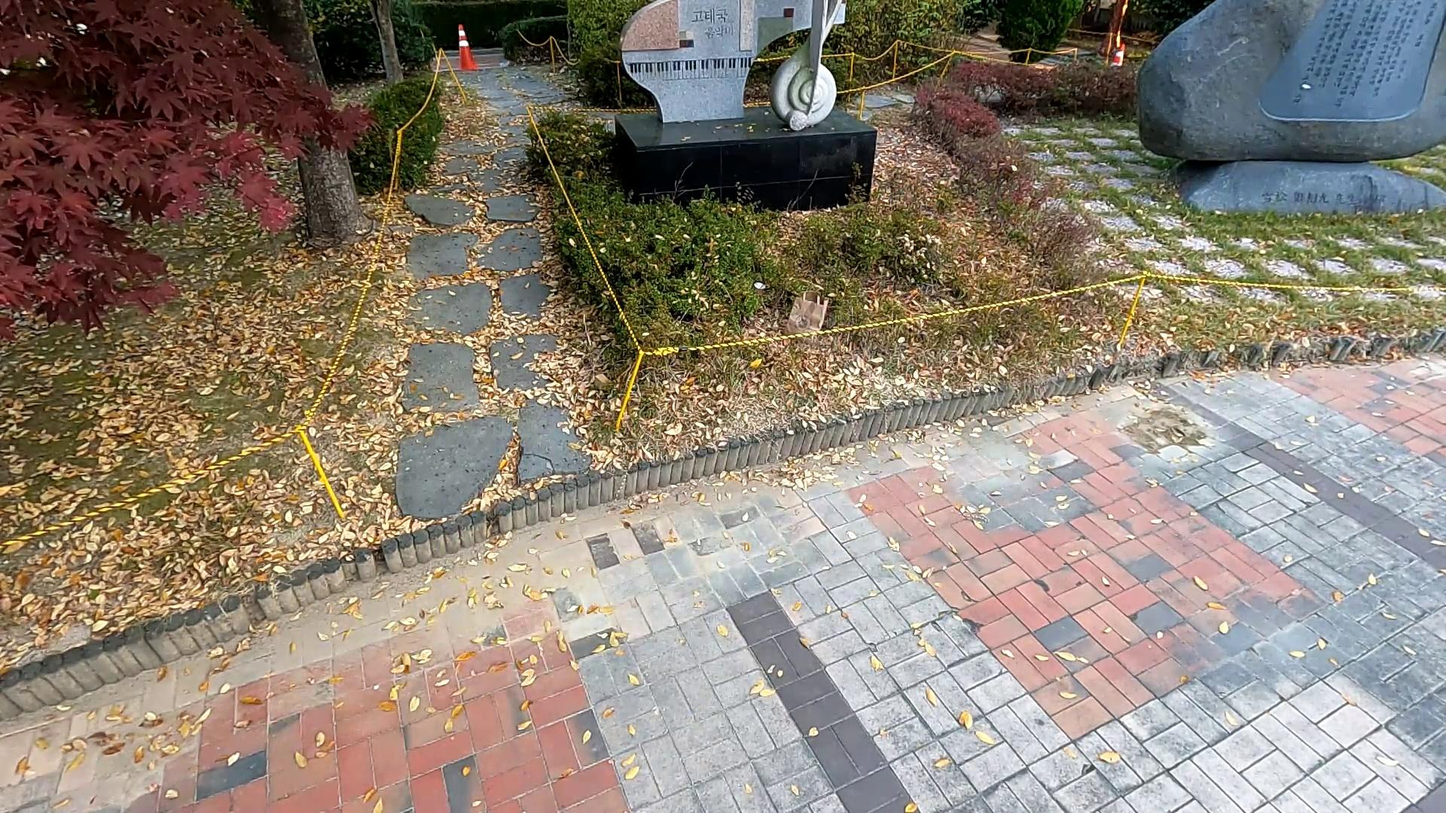trash: (783, 286, 834, 343)
